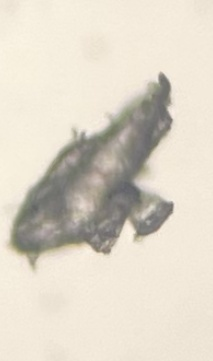microplastic: (9, 70, 174, 272)
